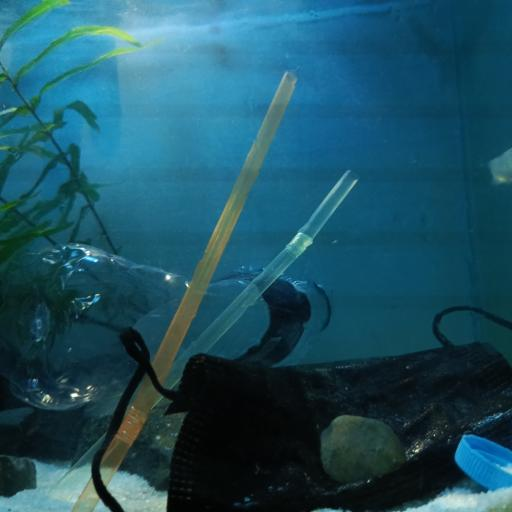bottle_cap: (453, 432, 512, 488)
mask: (88, 301, 512, 512)
plastic_bottle: (0, 241, 336, 407)
plastic_straw: (43, 169, 358, 512), (76, 64, 296, 512)
